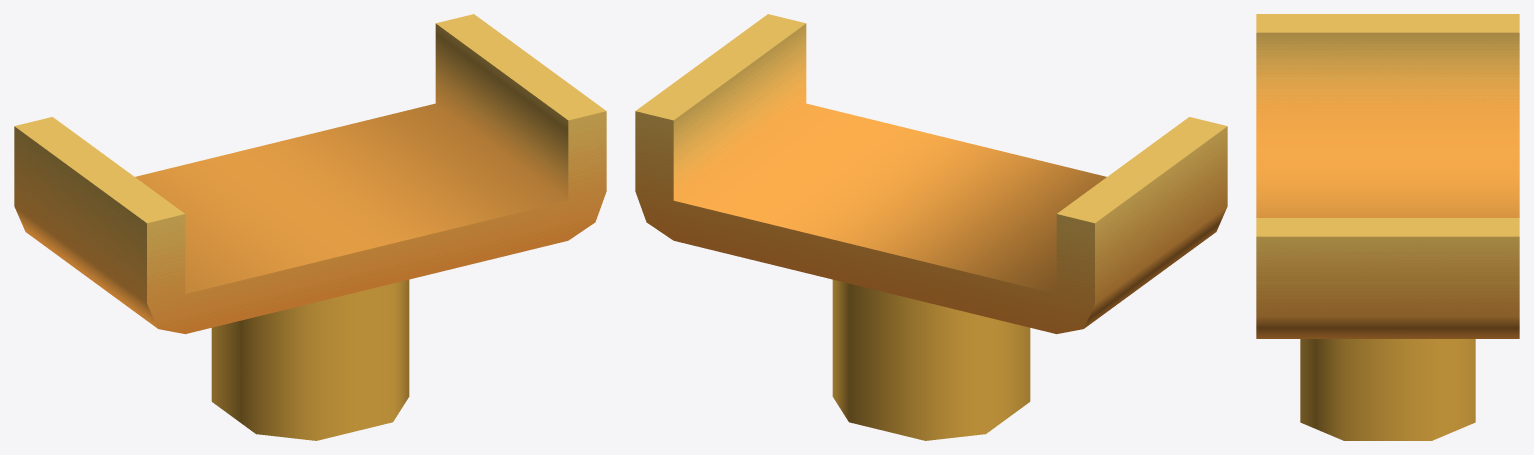
File: support-color-single-top-col.glb
The picture shows the model from 3 angles, left to right: view 1: azimuth 30°, elevation 25°; view 2: azimuth 150°, elevation 25°; view 3: azimuth 270°, elevation 25°; orthographic projection.
Visible parts, largest first — view 1: support-color-single-top-col; view 2: support-color-single-top-col; view 3: support-color-single-top-col.
Boxes of the visible parts, box(x1,y1,x2,y2) form: support-color-single-top-col: box(14, 14, 606, 440); support-color-single-top-col: box(635, 14, 1227, 440); support-color-single-top-col: box(1256, 14, 1519, 440).
Size of the model in its own units: 1.2 by 0.7 by 0.6.
Materials: 1 (1 with a texture image).
